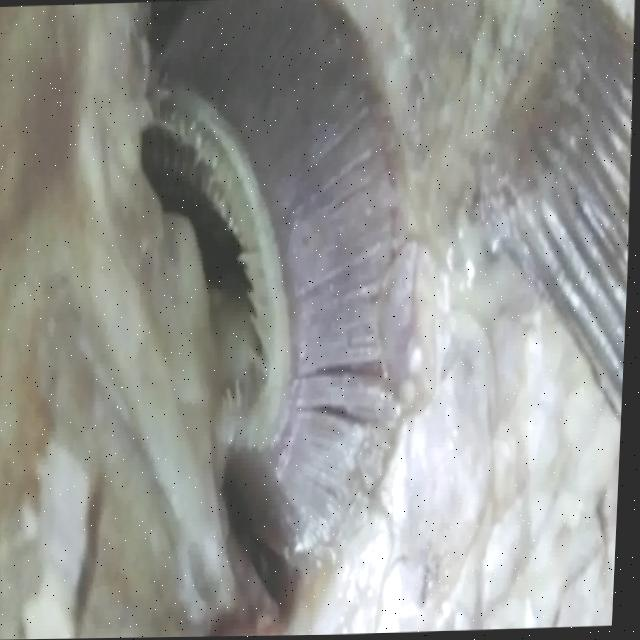Non-Fresh: (141, 0, 455, 583)
